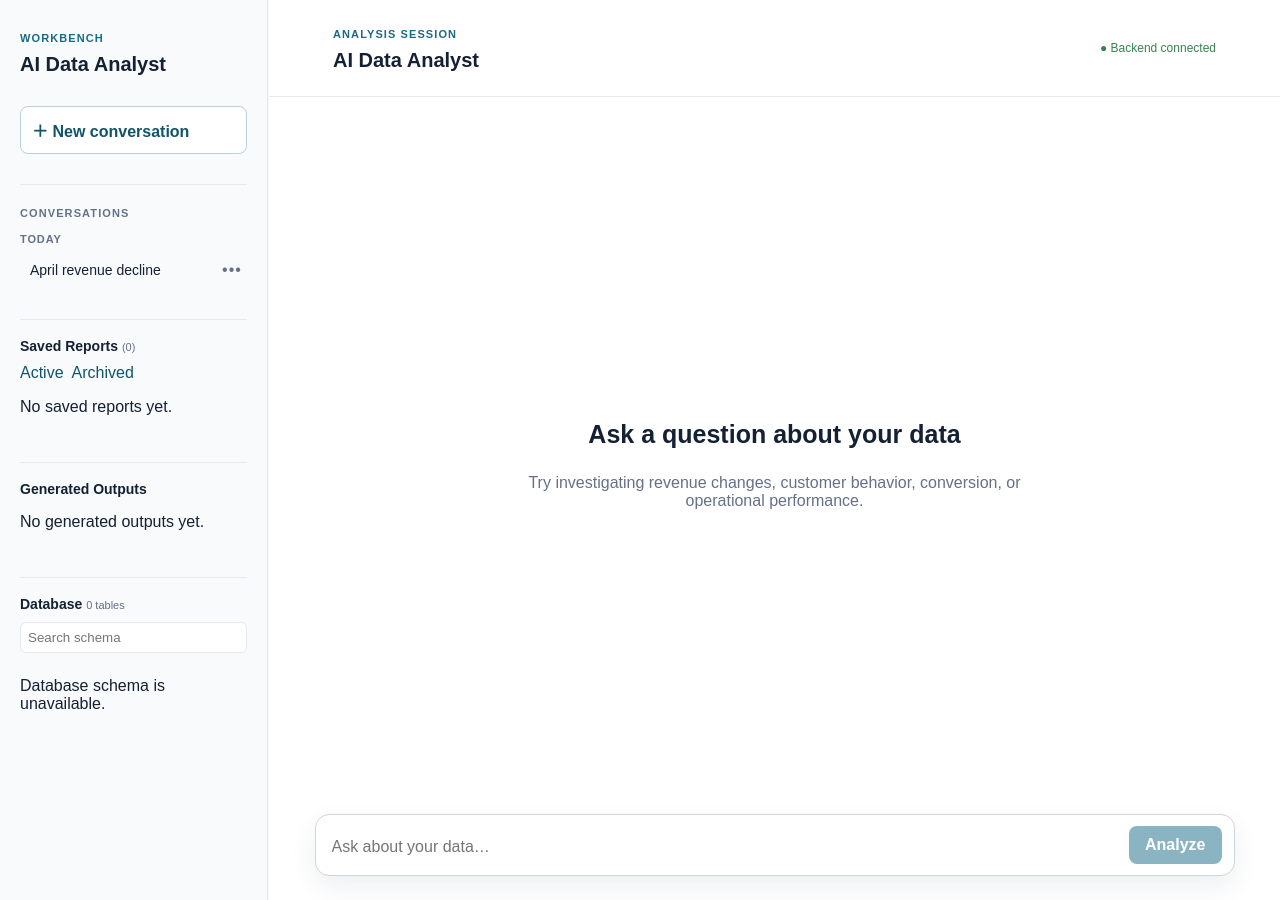
Test case: Workbench › loads and switches persisted conversations
Click the button "April revenue decline".
click(118, 270)  # box x1=20 y1=252 x2=217 y2=289
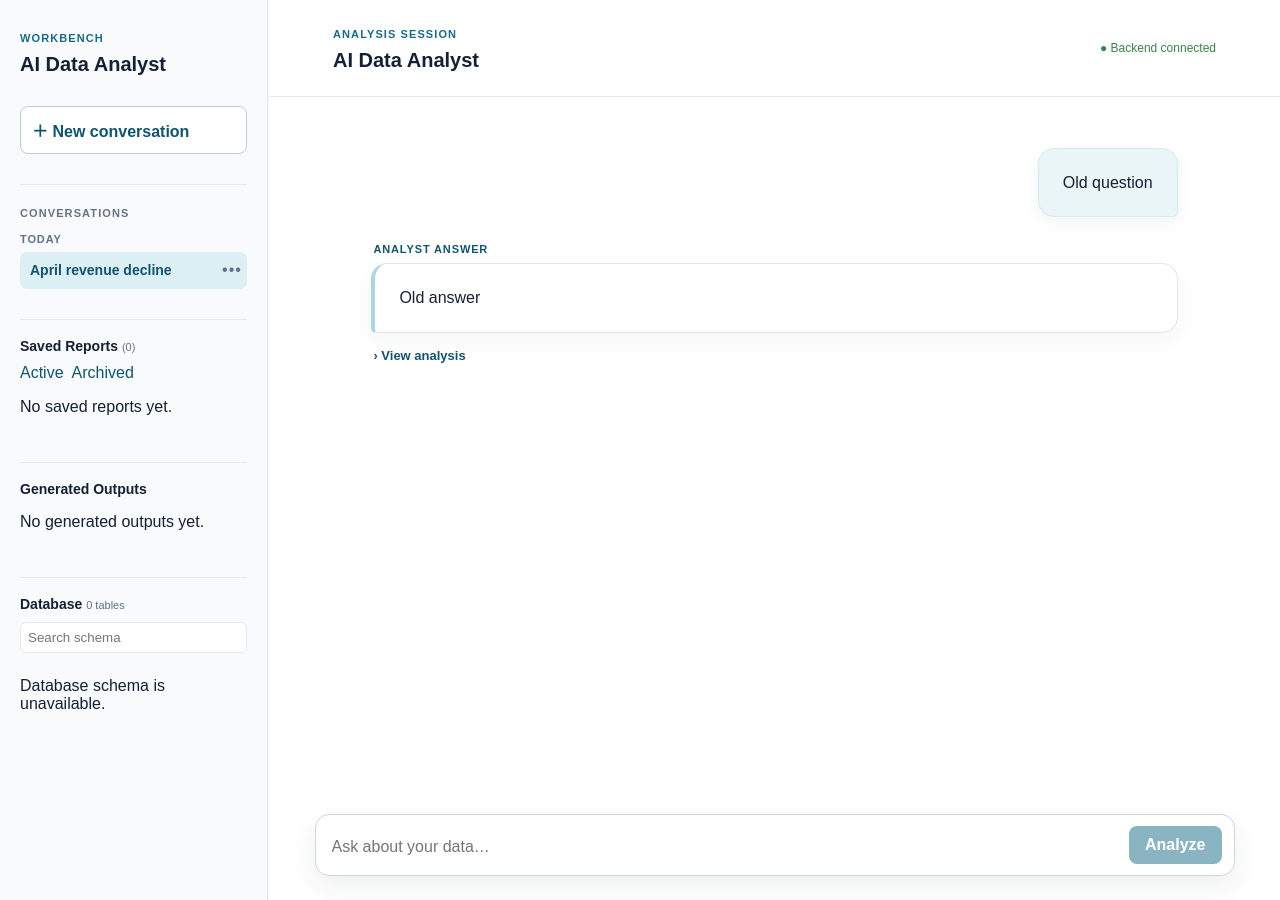
Result: the text "Old answer" is shown at x1=399 y1=289 x2=480 y2=306
